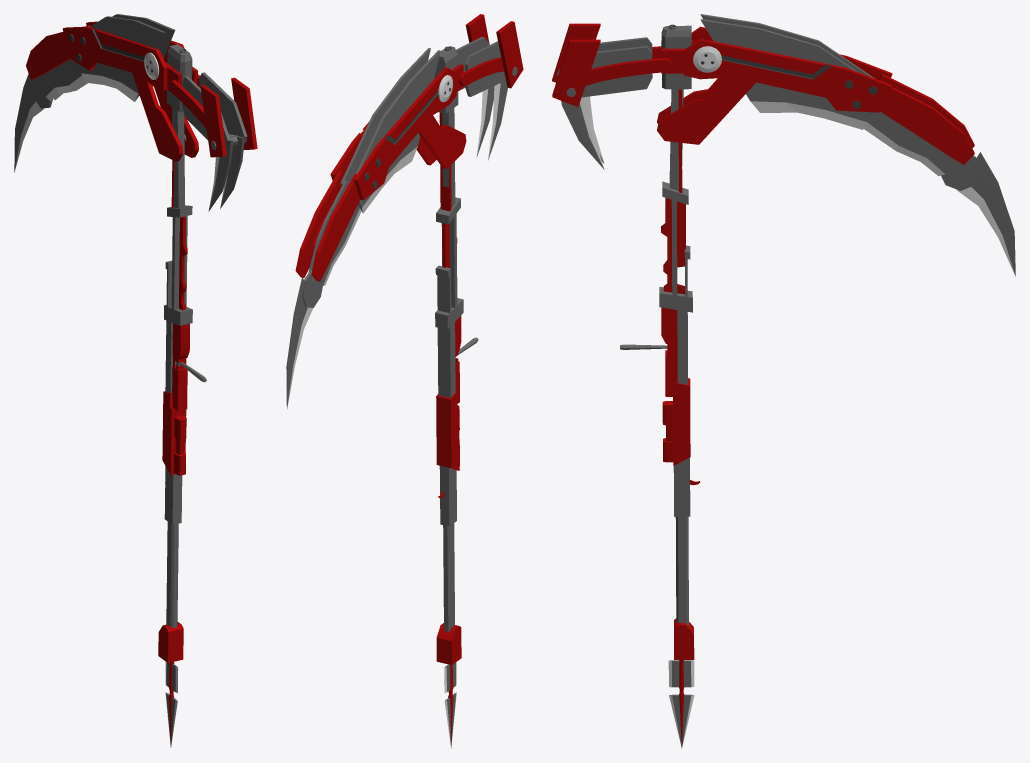
File: WeaponMode.fbx
The picture shows the model from 3 angles, left to right: view 1: azimuth 30°, elevation 25°; view 2: azimuth 150°, elevation 25°; view 3: azimuth 270°, elevation 25°; orthographic projection. The views are drawn at different scales.
Visible parts, largest first — view 1: pasted__polySurface11, pasted__pCube25.001, pasted__pCube10, pasted__pCube28.001, pasted__pCube22.001, pasted__pCylinder1, pasted__pCube26.001, pasted__pCube24.001, pasted__pCube6, pasted__pCube31, pasted__pCube33, pasted__pCube24 (+13 smaller); view 2: pasted__polySurface11, pasted__pCube10, pasted__pCube25.001, pasted__pCube22.001, pasted__pCube6, pasted__pCube25, pasted__pCube28.001, pasted__pCube22, pasted__pCylinder1, pasted__pCube31, pasted__pCube24.001, pasted__pCube34 (+14 smaller); view 3: pasted__polySurface15, pasted__pCube25, pasted__pCube28, pasted__pCube22, pasted__pCube10, pasted__pCube26, pasted__pCube31, pasted__pCube24, pasted__pCube33, pasted__pCylinder1, pasted__pCube6, pasted__pCube15 (+9 smaller).
Part boxes in pixels (x1,y1,x2,y2): pasted__polySurface11: (62, 26, 167, 90); pasted__pCube25.001: (79, 16, 165, 101); pasted__pCube10: (164, 205, 192, 392); pasted__pCube28.001: (132, 72, 182, 161); pasted__pCube22.001: (26, 32, 70, 79); pasted__pCylinder1: (166, 522, 178, 628); pasted__pCube26.001: (36, 59, 85, 101); pasted__pCube24.001: (200, 85, 226, 157); pasted__pCube6: (162, 391, 186, 475); pasted__pCube31: (14, 74, 43, 172); pasted__pCube33: (199, 72, 247, 140); pasted__pCube24: (231, 77, 257, 149); pasted__polySurface11: (353, 67, 456, 200); pasted__pCube10: (435, 197, 463, 397); pasted__pCube25.001: (356, 50, 440, 213); pasted__pCube22.001: (311, 174, 359, 281); pasted__pCube6: (436, 391, 459, 470); pasted__pCube25: (340, 48, 430, 185); pasted__pCube28.001: (418, 115, 466, 168); pasted__pCube22: (295, 170, 343, 277); pasted__pCylinder1: (443, 523, 454, 632); pasted__pCube31: (286, 277, 313, 409); pasted__pCube24.001: (496, 21, 523, 88); pasted__pCube34: (465, 41, 505, 96); pasted__polySurface15: (683, 39, 892, 112); pasted__pCube25: (700, 19, 874, 129); pasted__pCube28: (657, 77, 755, 144); pasted__pCube22: (880, 87, 974, 164); pasted__pCube10: (659, 181, 692, 384); pasted__pCube26: (864, 111, 961, 176); pasted__pCube31: (956, 152, 1015, 276); pasted__pCube24: (552, 39, 600, 106); pasted__pCube33: (582, 46, 652, 97); pasted__pCylinder1: (675, 516, 688, 625); pasted__pCube6: (673, 378, 690, 465); pasted__pCube15: (661, 198, 685, 294).
Size of the model in its own units: 18.56 by 346 by 197.
